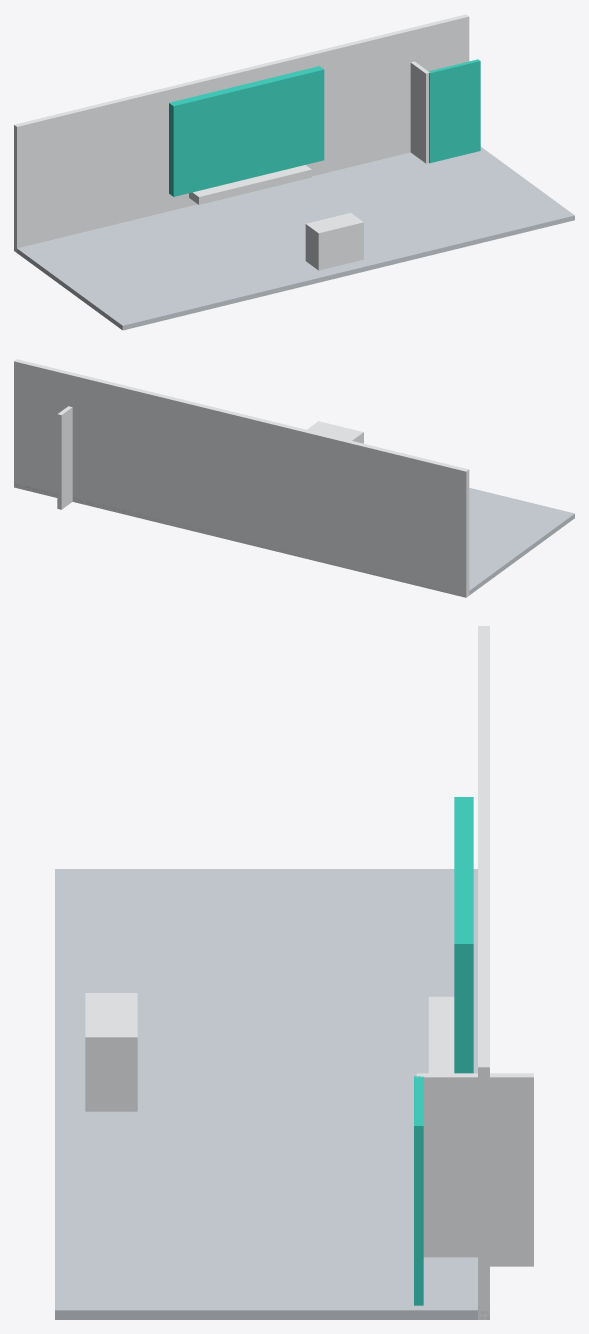
3 renders of one model, top to bottom at view 1: azimuth 30°, elevation 25°; view 2: azimuth 150°, elevation 25°; view 3: azimuth 270°, elevation 25°, orthographic. The views are drawn at different scales.
Visible parts, largest first — view 1: Exhibition Booth Concept; view 2: Exhibition Booth Concept; view 3: Exhibition Booth Concept.
Part boxes in pixels (left/top/right/bottom): Exhibition Booth Concept: left=14, top=14, right=574, bottom=330; Exhibition Booth Concept: left=14, top=359, right=574, bottom=597; Exhibition Booth Concept: left=55, top=626, right=533, bottom=1319.
Bounding box in the file's own units: 12 × 3.2 × 5.51.
